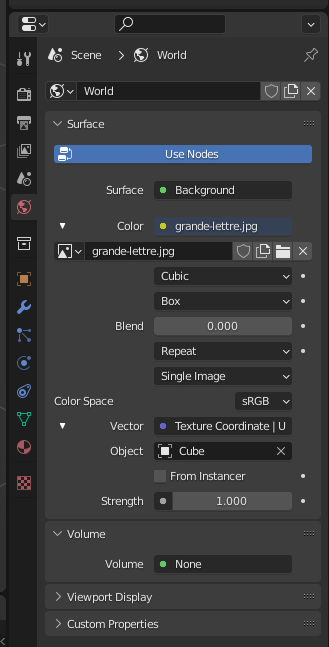bottles: (138, 88, 260, 390)
